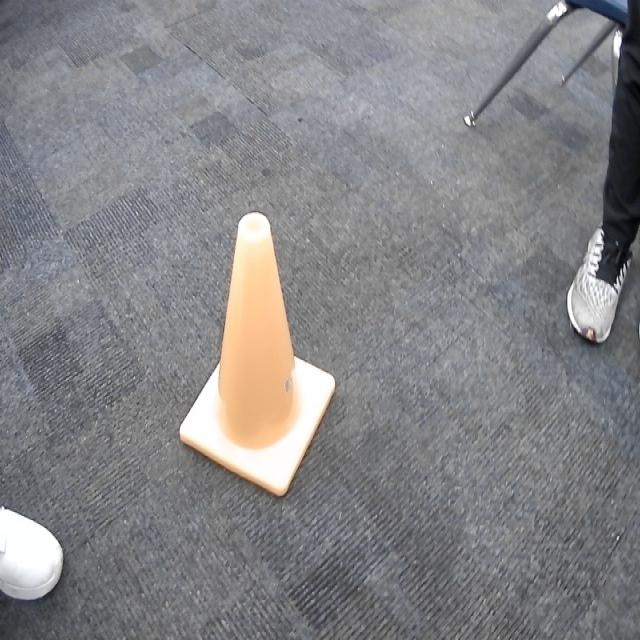cone: (177, 212, 338, 499)
